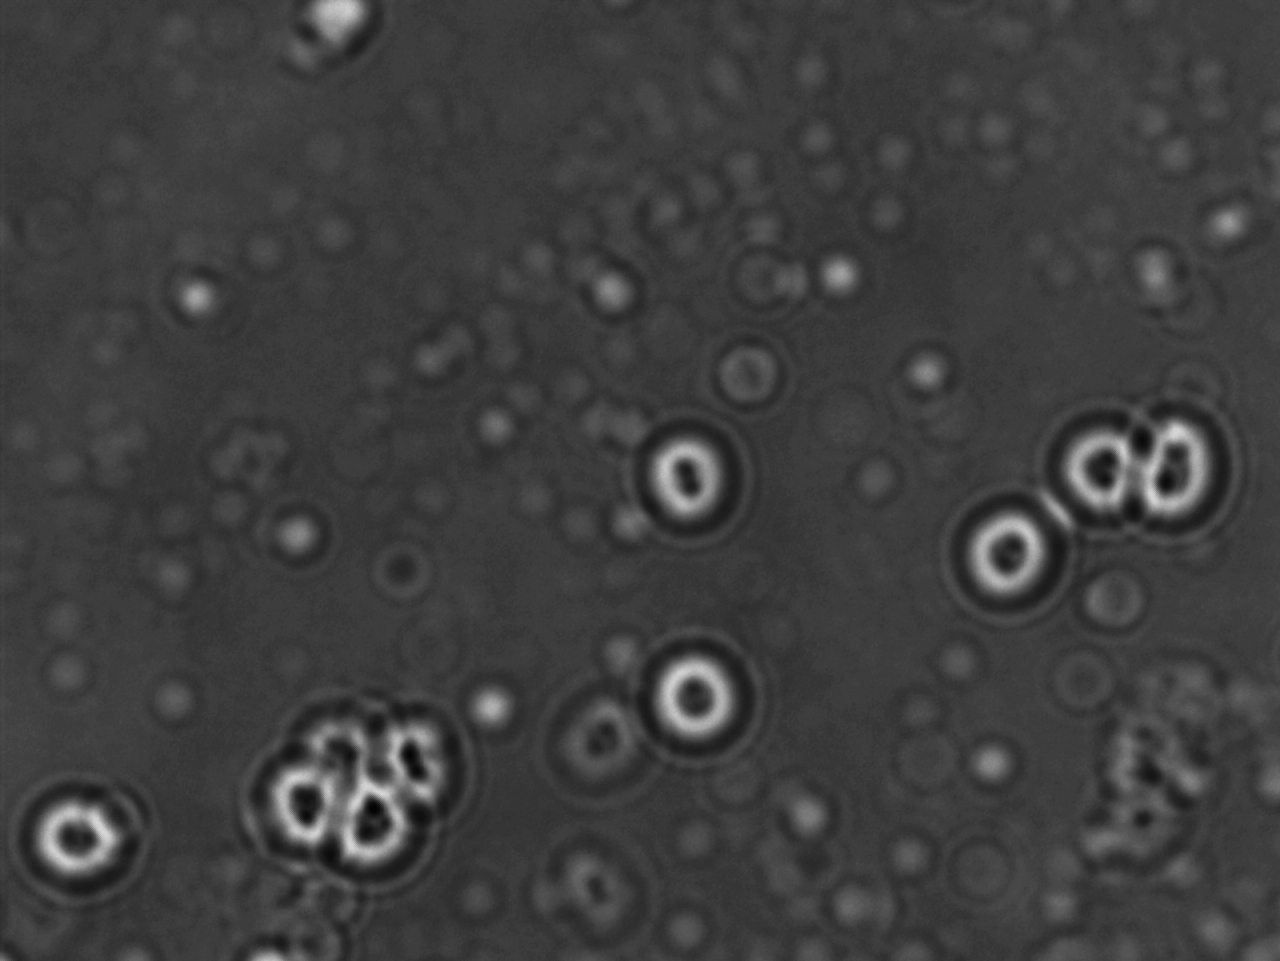depth:16: (616, 628, 775, 777), (937, 488, 1091, 633), (8, 774, 161, 914), (1033, 389, 1173, 529), (629, 411, 767, 541), (1121, 397, 1251, 533)
